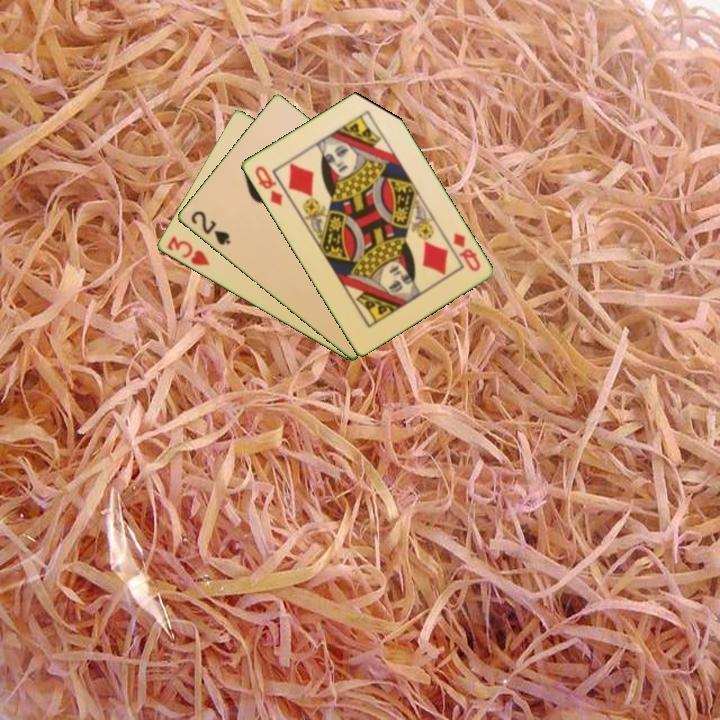2s: (187, 207, 233, 248)
3h: (163, 232, 212, 269)
Qd: (251, 162, 285, 208), (449, 229, 483, 274)
